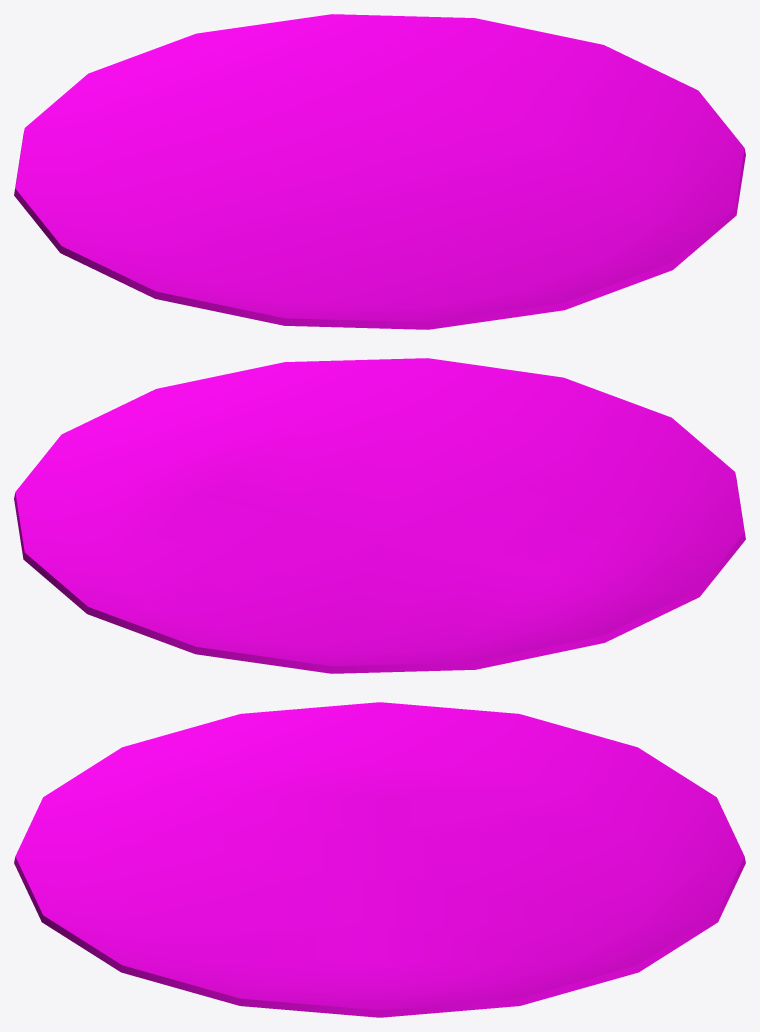
The model's file is plate_meshCollider.fbx.
3 views of the same model, one above another, from view 1: azimuth 30°, elevation 25°; view 2: azimuth 150°, elevation 25°; view 3: azimuth 270°, elevation 25° (orthographic).
Visible parts, largest first — view 1: foods_plate_1_meshCollider; view 2: foods_plate_1_meshCollider; view 3: foods_plate_1_meshCollider.
Part boxes in pixels (<box>): foods_plate_1_meshCollider: <box>14,14,745,329</box>; foods_plate_1_meshCollider: <box>14,358,745,673</box>; foods_plate_1_meshCollider: <box>14,702,745,1017</box>.
Bounding box in the file's own units: 25.27 × 1.53 × 25.27.
